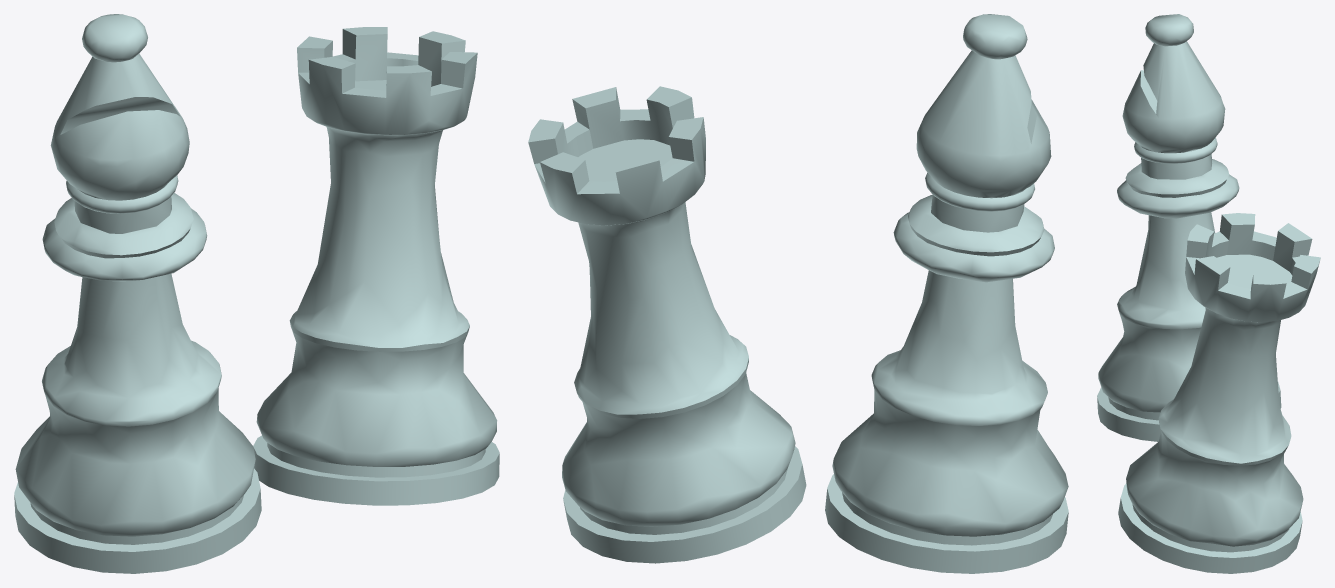
The model's file is chess_pieces.FBX.
3 renders of one model, left to right at view 1: azimuth 30°, elevation 25°; view 2: azimuth 150°, elevation 25°; view 3: azimuth 270°, elevation 25°, orthographic. The views are drawn at different scales.
Parts seen in each view (by area): view 1: chesspieces; view 2: chesspieces; view 3: chesspieces.
Part boxes in pixels (bbox=[...]): chesspieces: bbox=[14, 14, 499, 573]; chesspieces: bbox=[528, 14, 1068, 573]; chesspieces: bbox=[1097, 14, 1320, 573].
Bounding box in the file's own units: 0.1301 × 0.1458 × 0.0708.
